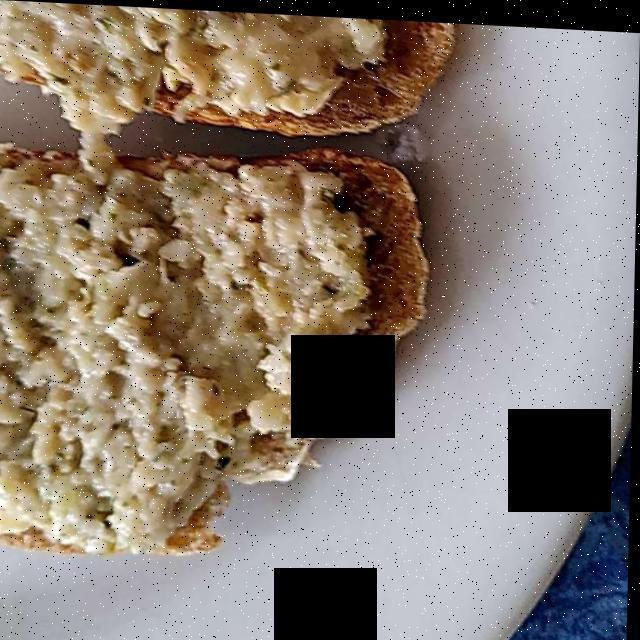bread: (0, 15, 447, 558)
cauliflower: (3, 24, 378, 537)
